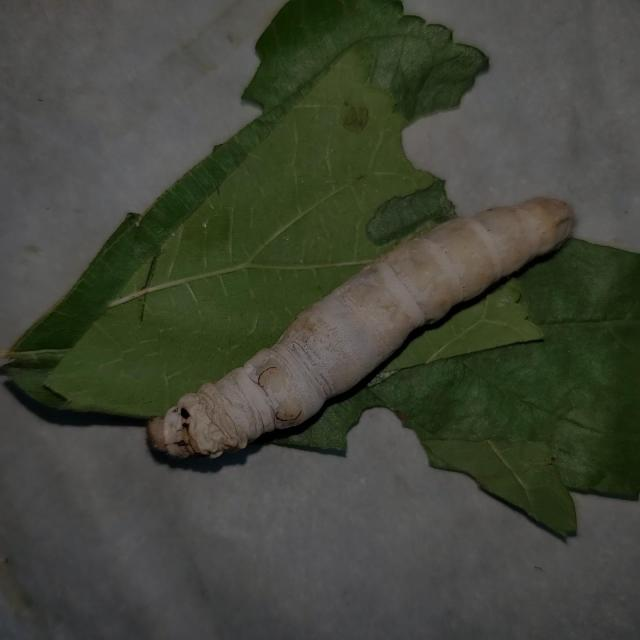Grasserie: (116, 171, 597, 516)
